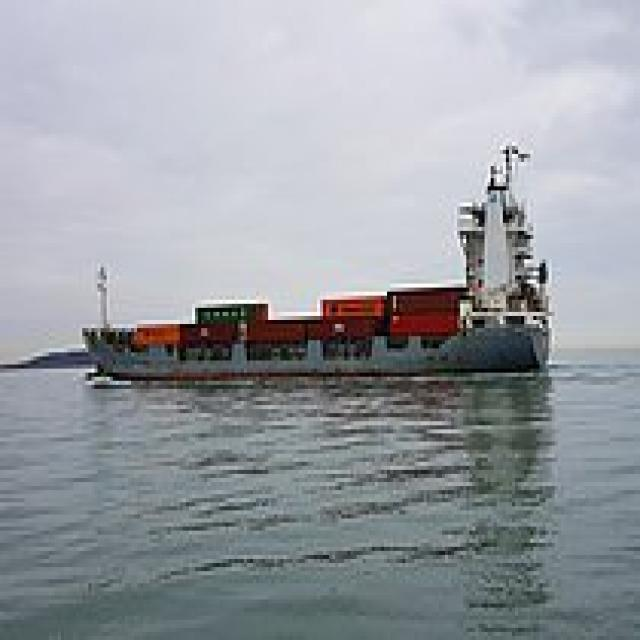Ship: (71, 139, 562, 390)
